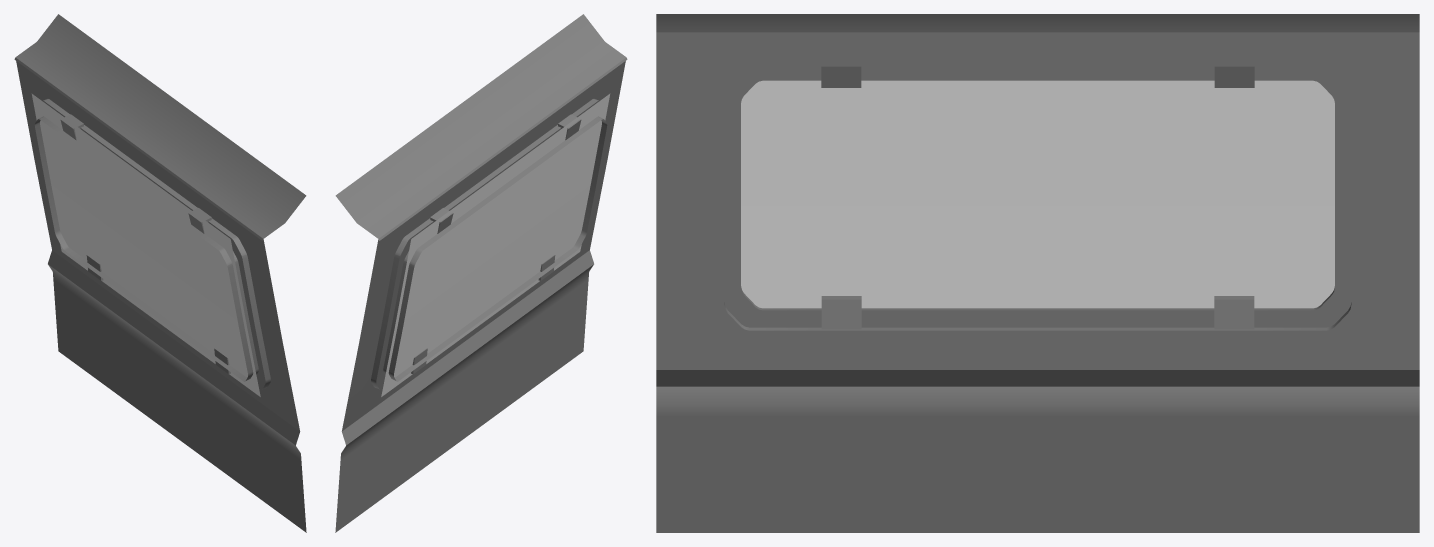
The model's file is q-scifi-mod-wallastra-straight-window.glb.
The picture shows the model from 3 angles, left to right: view 1: azimuth 30°, elevation 25°; view 2: azimuth 150°, elevation 25°; view 3: azimuth 270°, elevation 25°; orthographic projection. The views are drawn at different scales.
Parts seen in each view (by area): view 1: WallAstra_Straight_Window; view 2: WallAstra_Straight_Window; view 3: WallAstra_Straight_Window.
Part boxes in pixels (x1,y1,x2,y2): WallAstra_Straight_Window: (14, 14, 306, 532); WallAstra_Straight_Window: (335, 14, 627, 532); WallAstra_Straight_Window: (656, 14, 1419, 532).
Bounding box in the file's own units: 0.4975 × 3 × 4.
5 materials, 4 textured.
